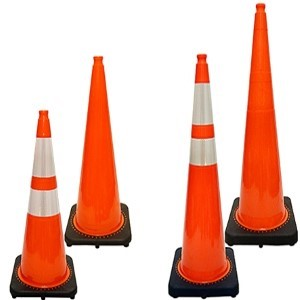traffic cone: (225, 3, 298, 245), (169, 54, 239, 297), (64, 56, 131, 245), (10, 110, 77, 297)
